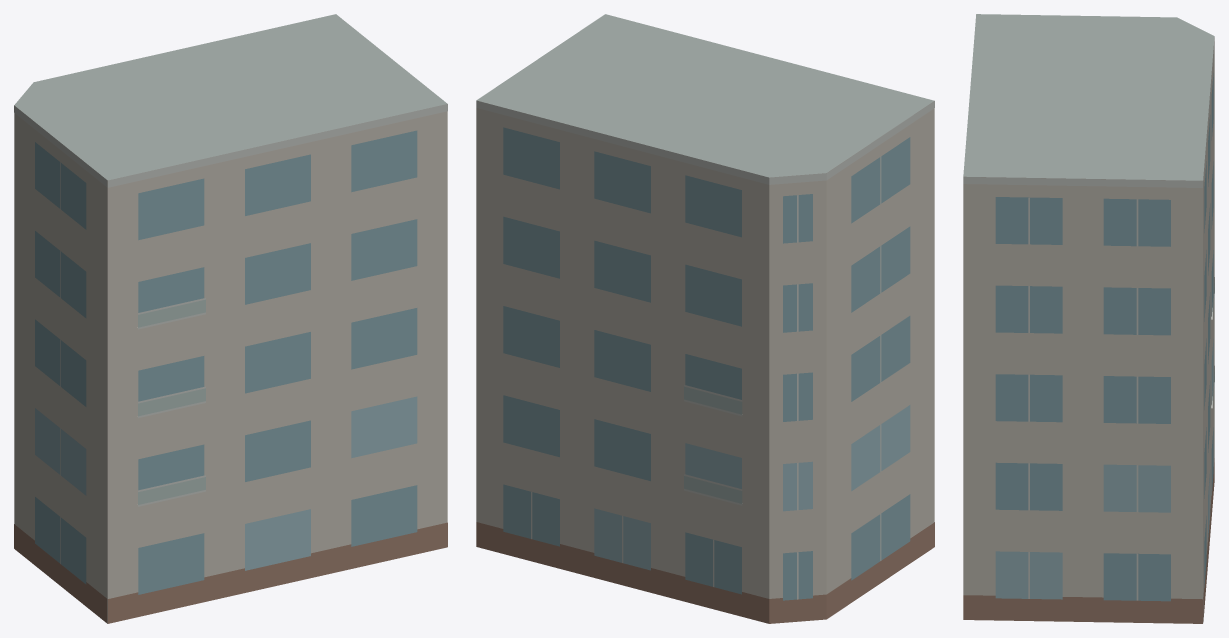
File: survey-upis-32594978.glb
The picture shows the model from 3 angles, left to right: view 1: azimuth 30°, elevation 25°; view 2: azimuth 150°, elevation 25°; view 3: azimuth 270°, elevation 25°; orthographic projection.
Visible parts, largest first — view 1: survey-upis-32594978.tmp; view 2: survey-upis-32594978.tmp; view 3: survey-upis-32594978.tmp.
Part boxes in pixels (box(x1,y1,x2,y2)): survey-upis-32594978.tmp: box(14, 14, 447, 623); survey-upis-32594978.tmp: box(476, 14, 934, 623); survey-upis-32594978.tmp: box(963, 14, 1214, 623).
Bounding box in the file's own units: 11.87 × 14.7 × 7.57.
